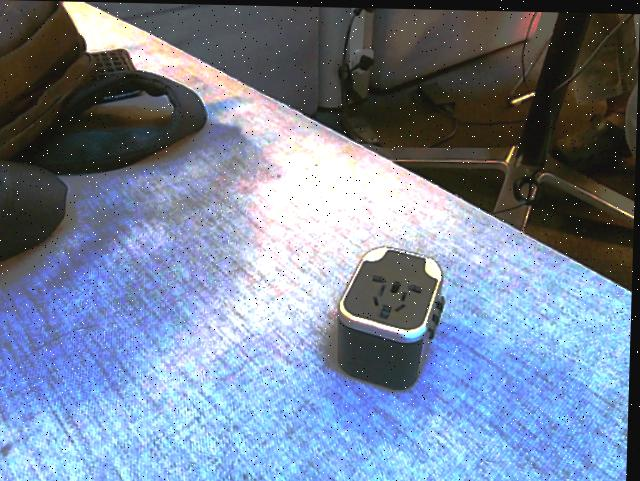adapter: (336, 242, 448, 388)
